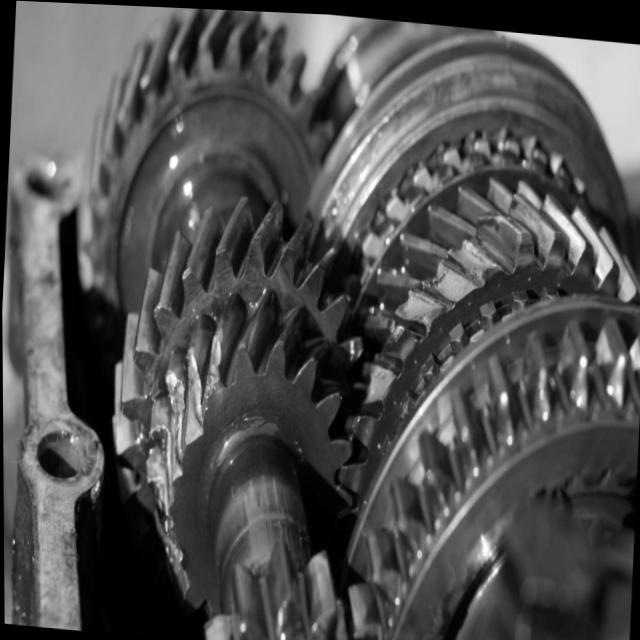Fault-Exist: (382, 226, 497, 401), (137, 356, 221, 576)
No Fault: (371, 429, 640, 640), (81, 4, 323, 226), (122, 171, 375, 333)
